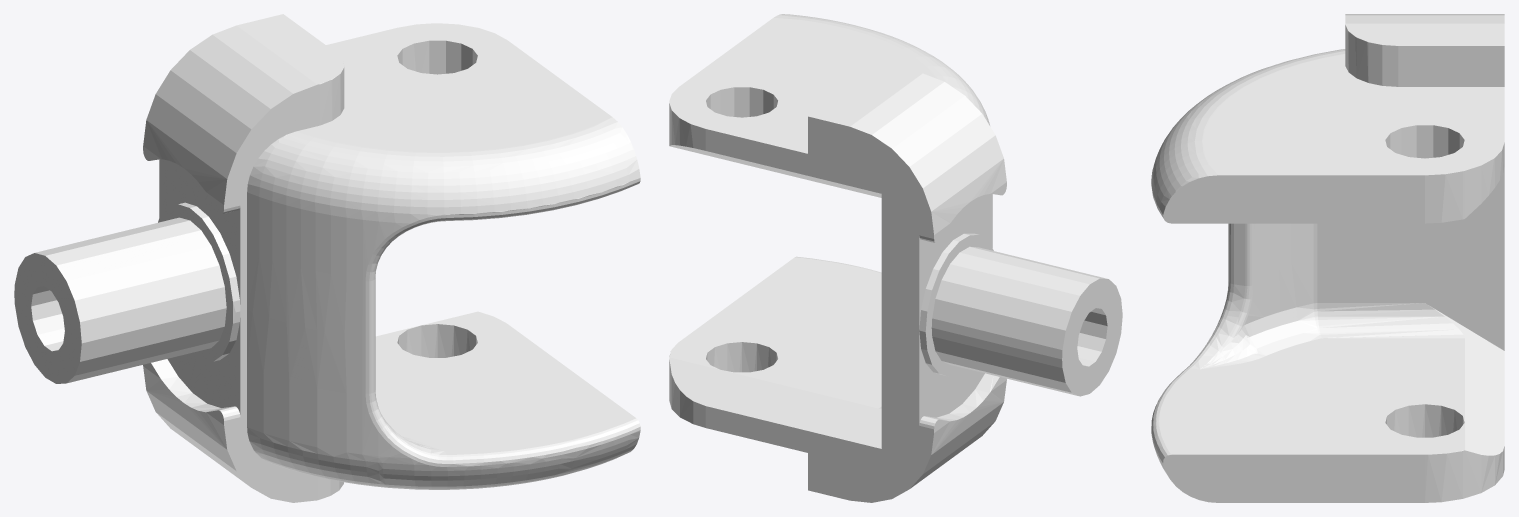
File: rh_middle_metacarpals_vis.obj
3 views of the same model, side by side, from view 1: azimuth 30°, elevation 25°; view 2: azimuth 150°, elevation 25°; view 3: azimuth 270°, elevation 25° (orthographic). The views are drawn at different scales.
Parts seen in each view (by area): view 1: rh_middle_metacarpals; view 2: rh_middle_metacarpals; view 3: rh_middle_metacarpals.
Boxes of the visible parts, <box> form: rh_middle_metacarpals: <box>14,14,640,502</box>; rh_middle_metacarpals: <box>669,14,1122,502</box>; rh_middle_metacarpals: <box>1151,14,1504,502</box>.
Size of the model in its own units: 0.0197 by 0.017 by 0.0133.
Materials: 1 (1 with a texture image).
